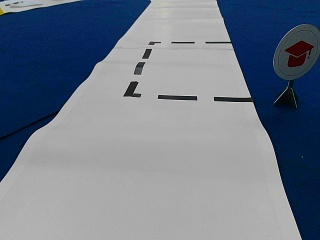school: (273, 24, 318, 79)
